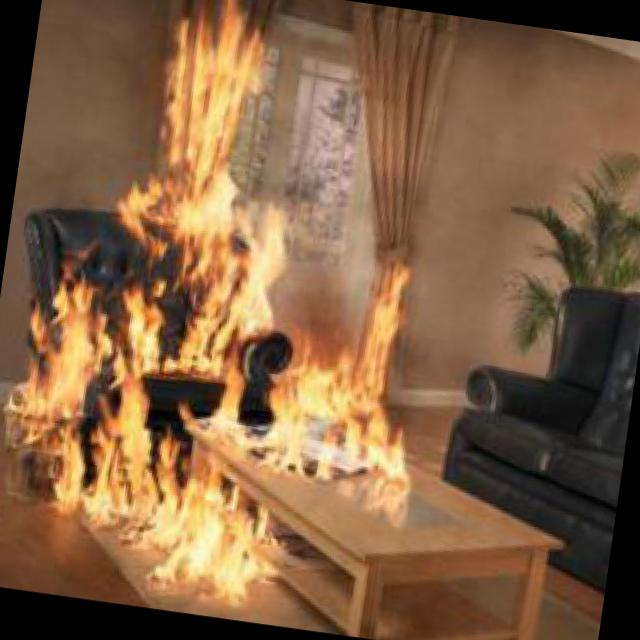fire: (0, 164, 453, 633), (136, 0, 292, 189)
